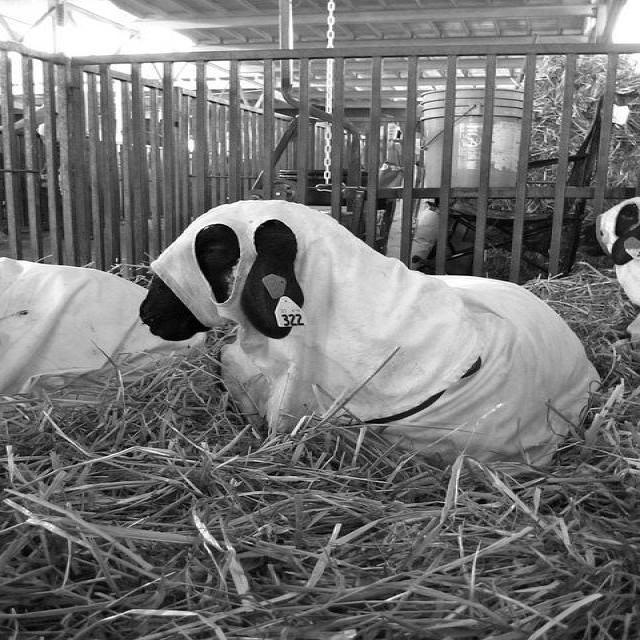Sheep: (136, 197, 607, 465), (0, 251, 204, 398)
